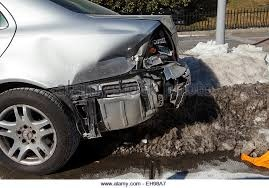Broken-glass: (139, 29, 176, 69)
Smashed: (56, 57, 192, 145)
